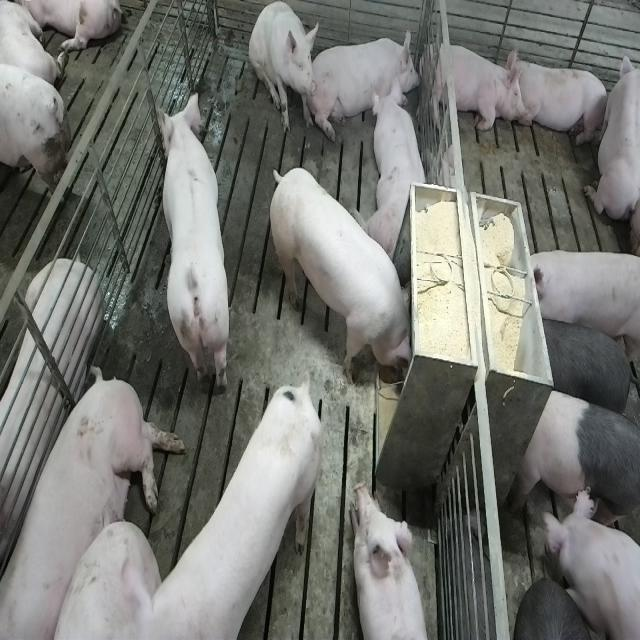Feeding: (272, 166, 420, 390)
Lateral_lying: (3, 362, 187, 634), (0, 258, 103, 610)
Sitting: (249, 2, 320, 137)
Standing: (147, 370, 328, 635), (153, 88, 230, 398), (516, 384, 638, 559), (538, 484, 637, 640), (523, 250, 637, 356), (535, 312, 638, 421)
Sternal_lying: (352, 481, 433, 640), (314, 27, 424, 136), (365, 83, 430, 263), (584, 42, 638, 235), (425, 37, 525, 137), (512, 53, 611, 148)
